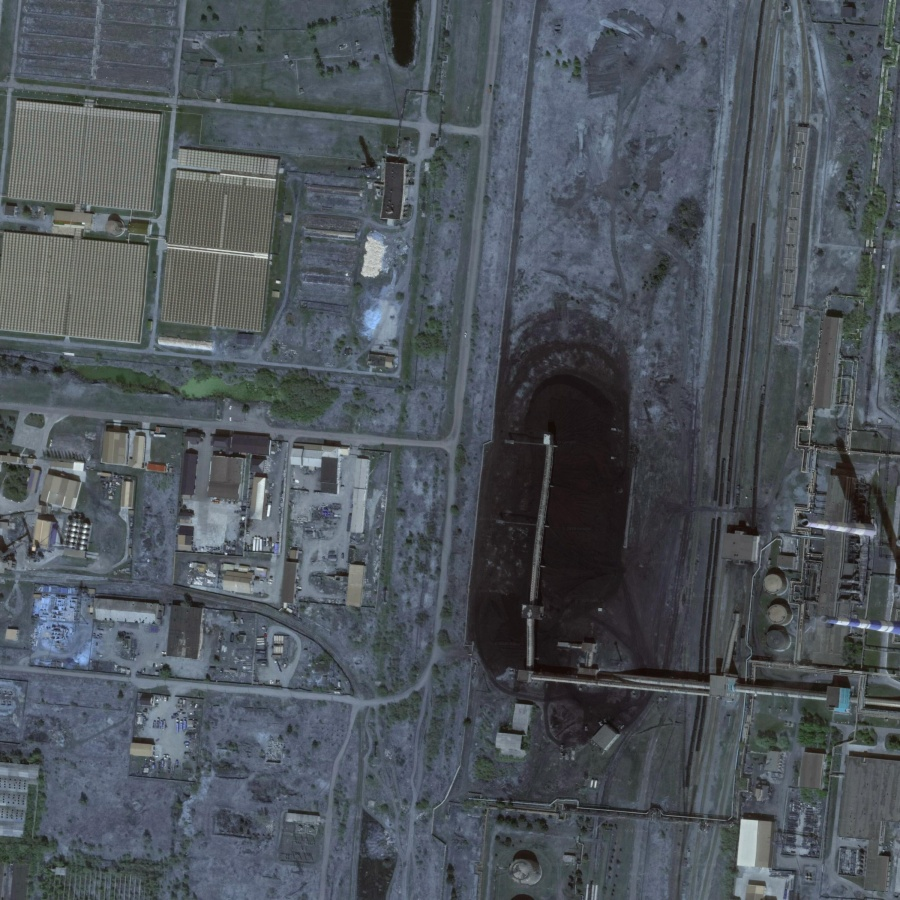PowerPlant: (458, 339, 776, 748)
